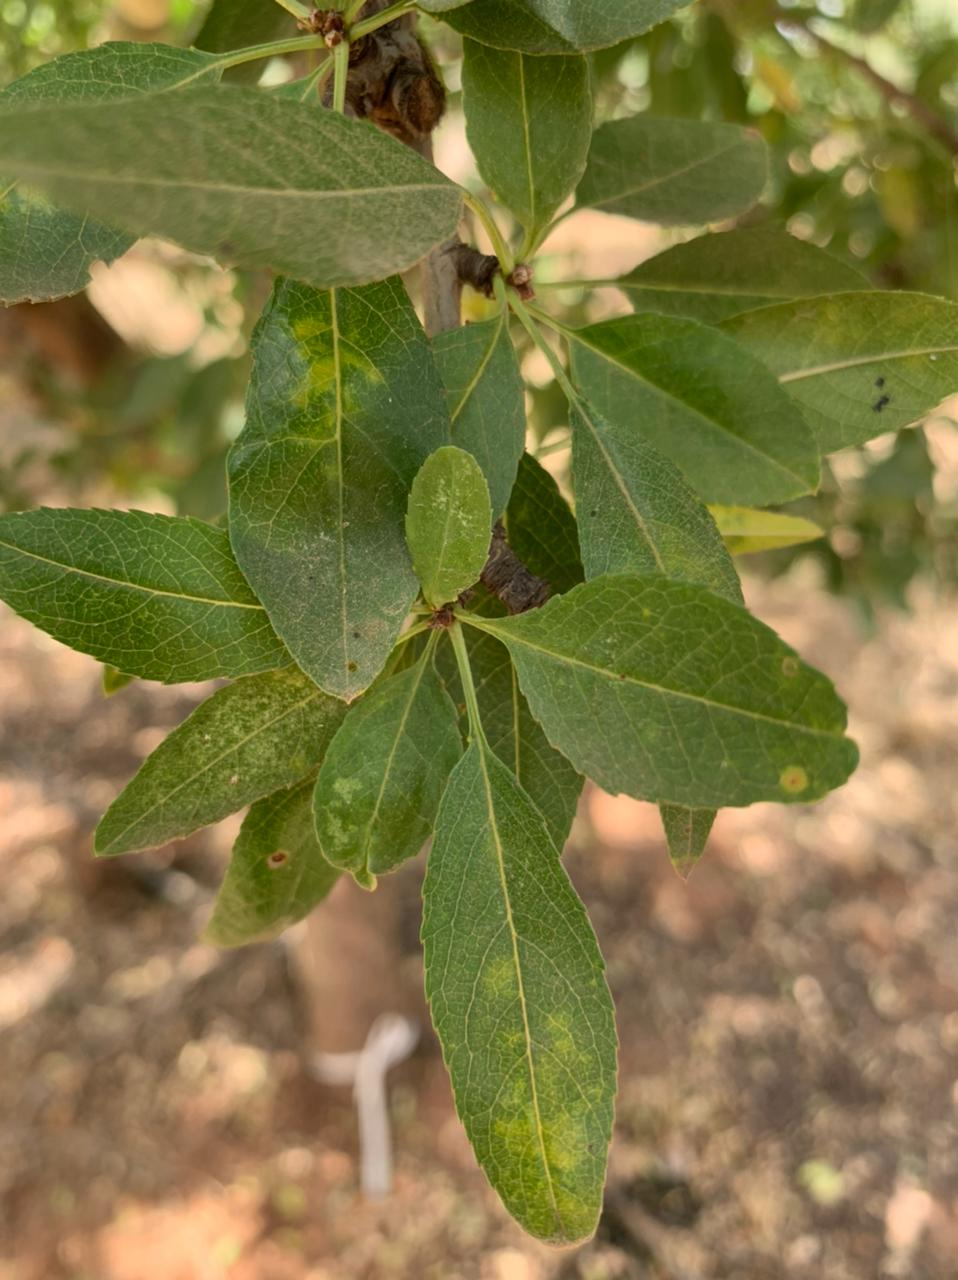othyorinques: (223, 275, 451, 703)
